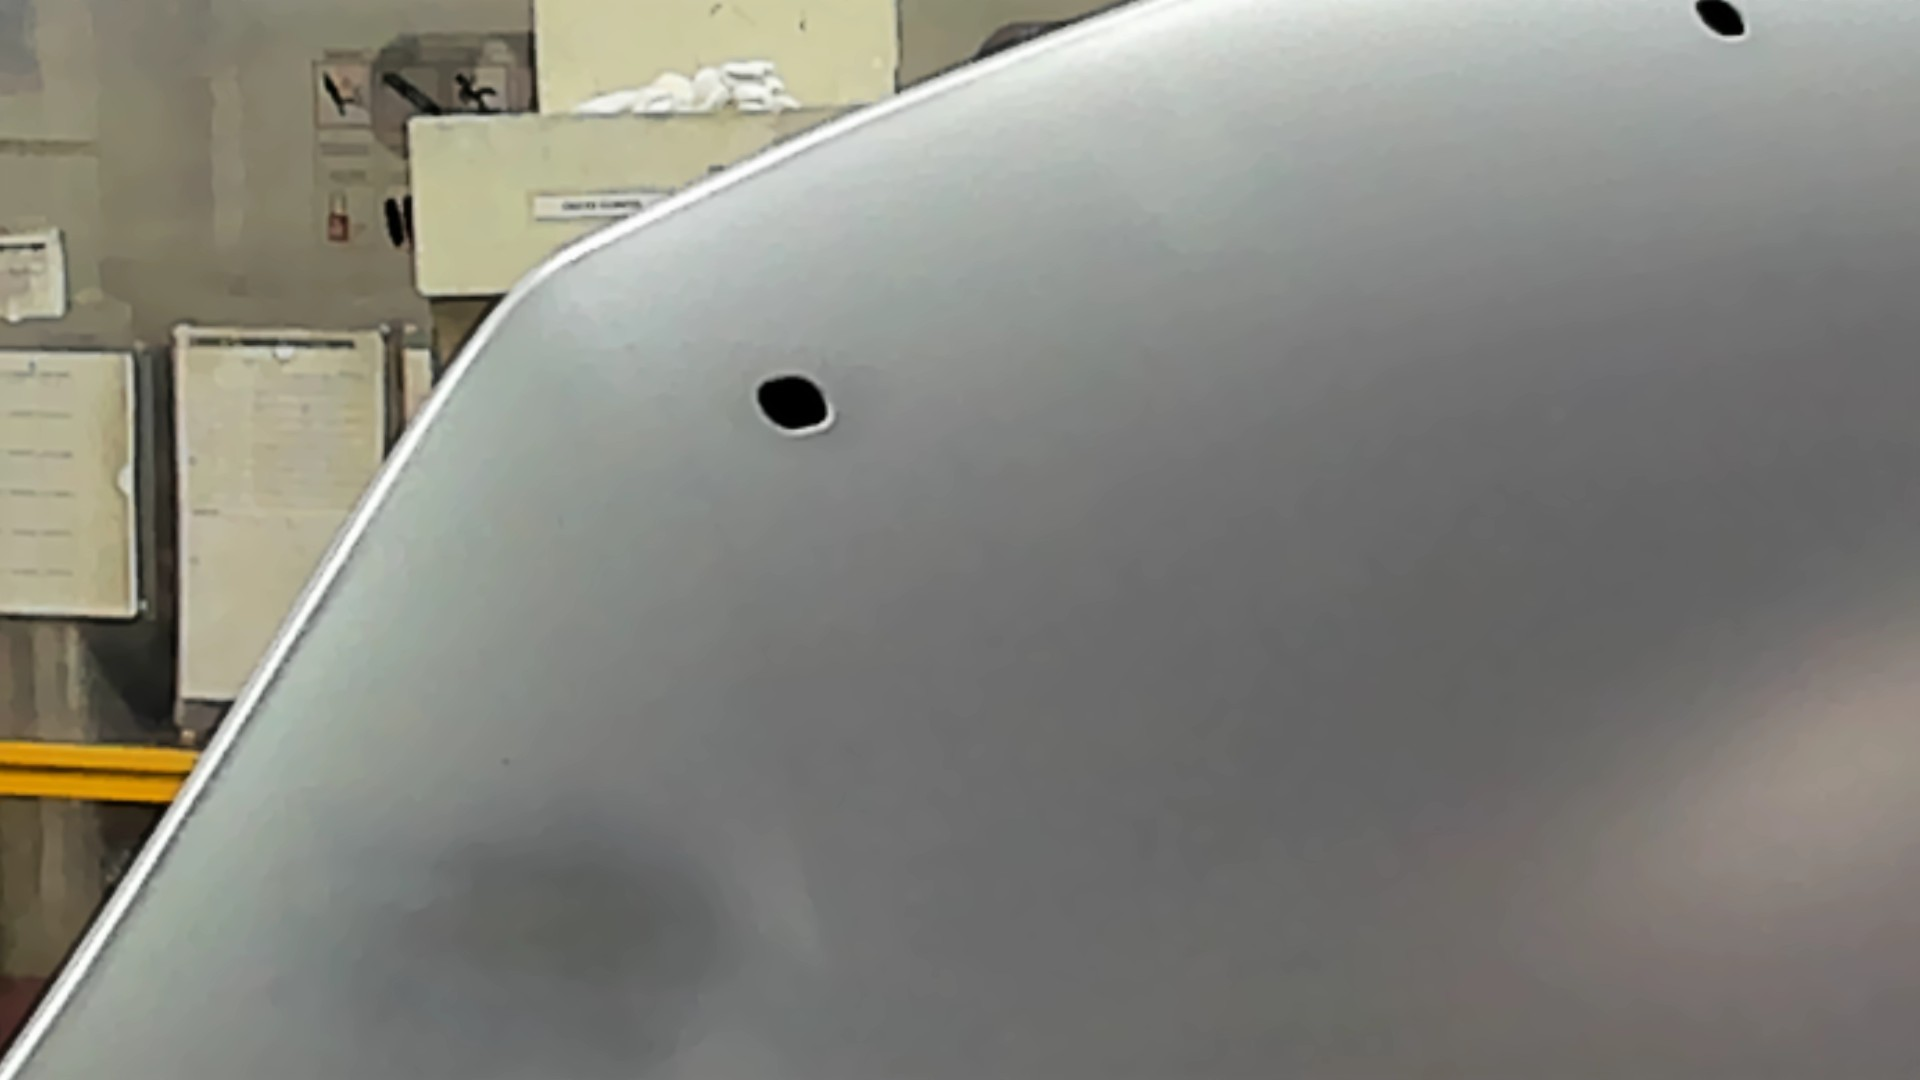amorfo: (746, 363, 841, 442), (1687, 1, 1754, 45)
capo: (949, 109, 1920, 1080)
